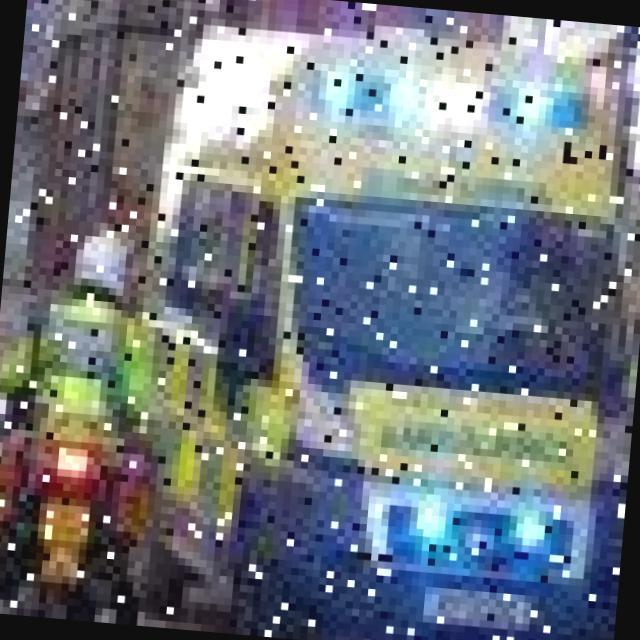emergency-vehicle: (116, 13, 640, 640)
